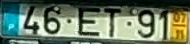1: (158, 9, 170, 41)
4: (22, 4, 41, 35)
6: (42, 4, 61, 35)
9: (136, 8, 156, 39)
E: (77, 6, 101, 37)
T: (103, 7, 122, 38)
